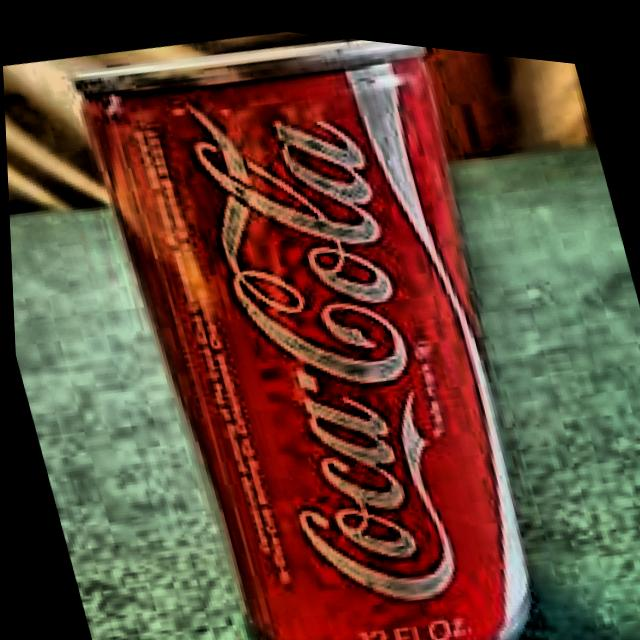Cans: (39, 3, 587, 640)
